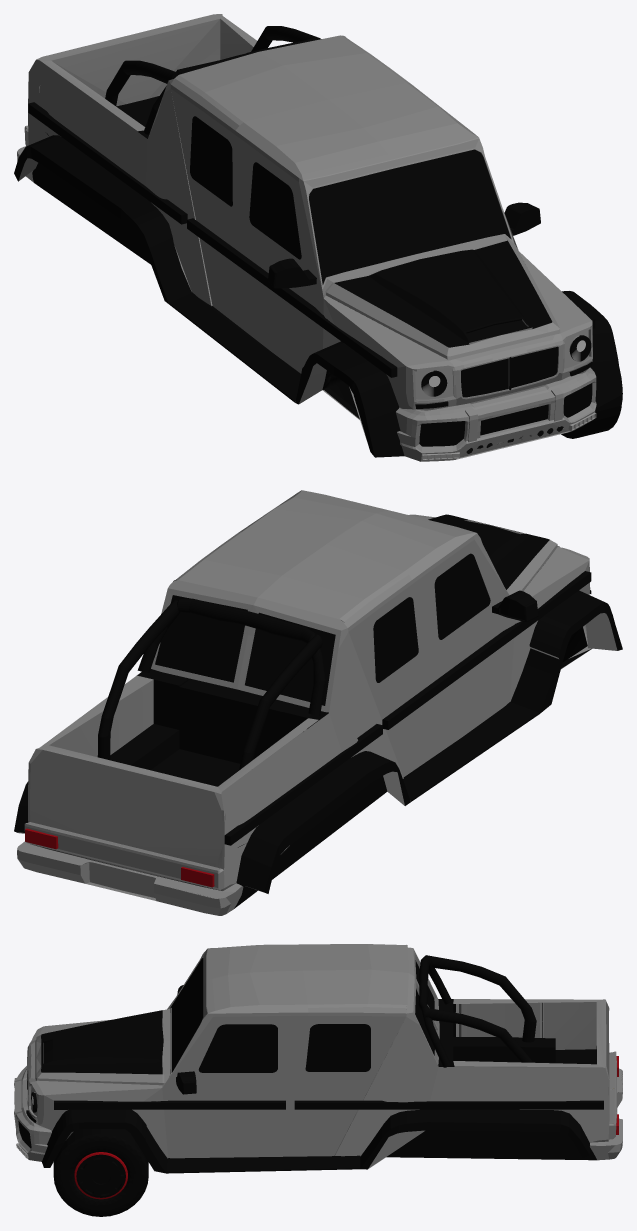
3 views of the same model, one above another, from view 1: azimuth 30°, elevation 25°; view 2: azimuth 150°, elevation 25°; view 3: azimuth 270°, elevation 25° (orthographic). The views are drawn at different scales.
Visible parts, largest first — view 1: CARBODY, FLW; view 2: CARBODY; view 3: CARBODY, FLW.
Part boxes in pixels (x1,y1,x2,y2): CARBODY: (14,14,622,461); FLW: (561,368,622,438); CARBODY: (14,490,622,915); CARBODY: (14,944,622,1173); FLW: (53,1129,148,1216).
Size of the model in its own units: 207 by 194 by 536.
